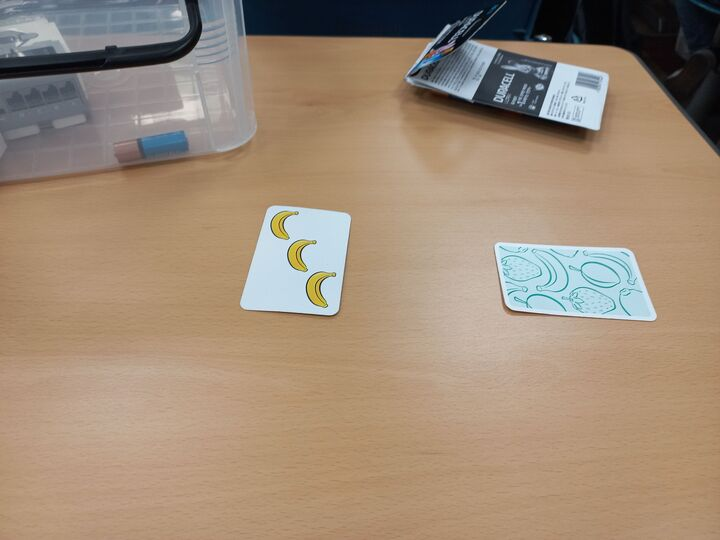banana3: (237, 202, 353, 318)
